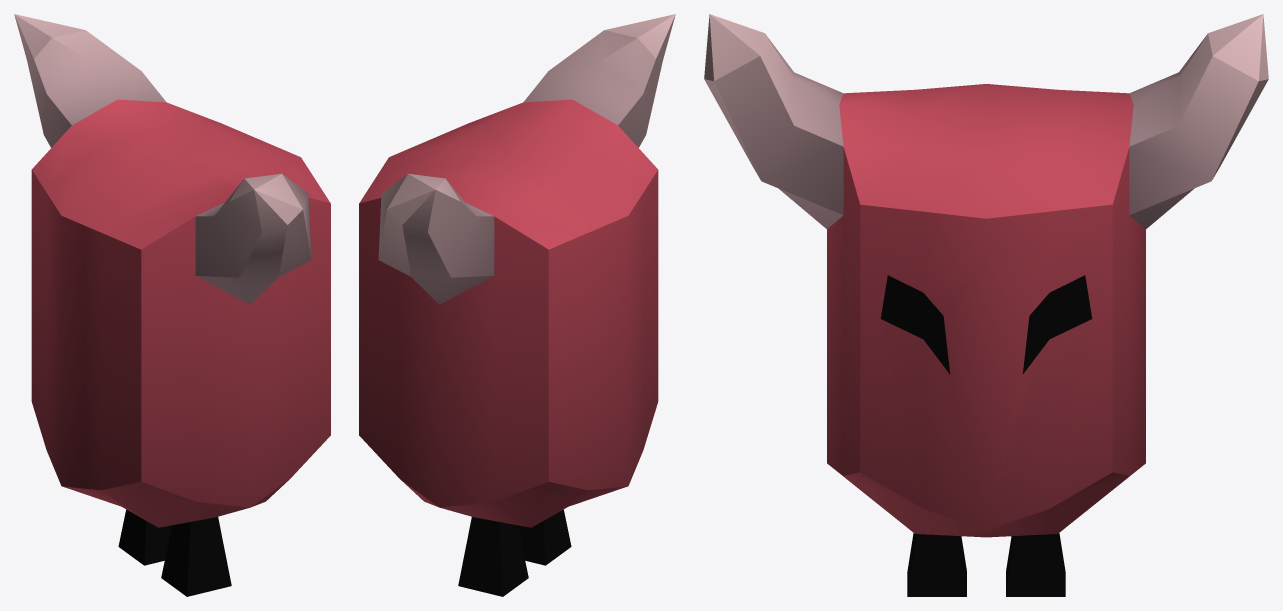
File: enemy common.fbx
3 renders of one model, left to right at view 1: azimuth 30°, elevation 25°; view 2: azimuth 150°, elevation 25°; view 3: azimuth 270°, elevation 25°, orthographic. The views are drawn at different scales.
Parts seen in each view (by area): view 1: enemy common; view 2: enemy common; view 3: enemy common.
Boxes of the visible parts, x1=… form: enemy common: x1=14, y1=14, x2=330, y2=596; enemy common: x1=359, y1=14, x2=675, y2=596; enemy common: x1=704, y1=14, x2=1268, y2=596.
Size of the model in its own units: 101 by 191 by 179.
